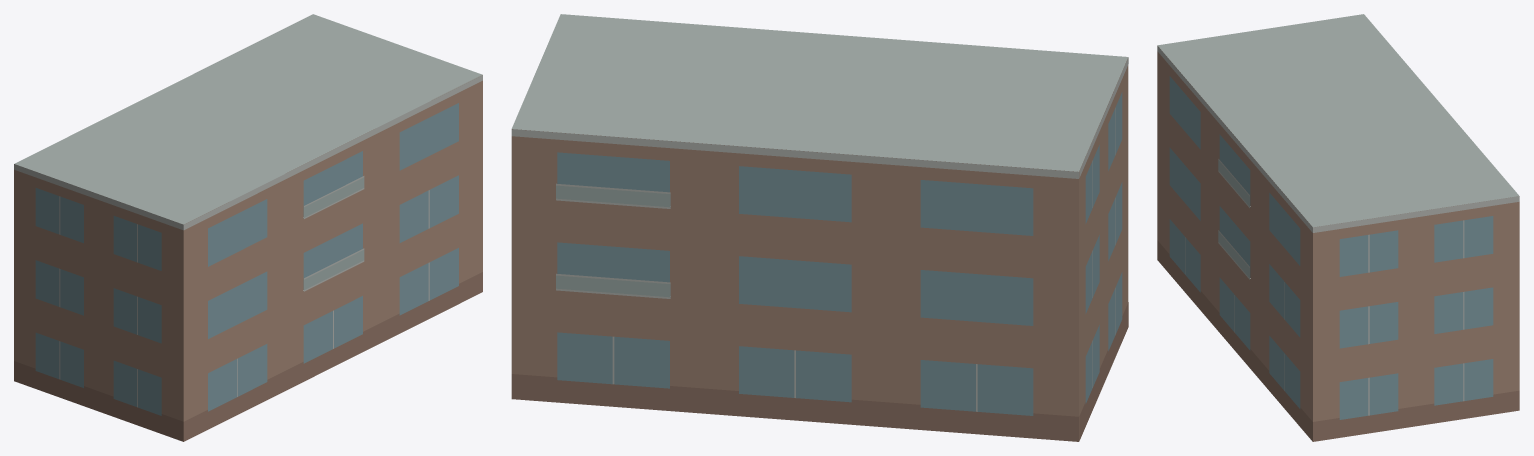
File: survey-upis-32721277.glb
3 renders of one model, left to right at view 1: azimuth 30°, elevation 25°; view 2: azimuth 150°, elevation 25°; view 3: azimuth 270°, elevation 25°, orthographic. The views are drawn at different scales.
Parts seen in each view (by area): view 1: survey-upis-32721277.tmp; view 2: survey-upis-32721277.tmp; view 3: survey-upis-32721277.tmp.
Part boxes in pixels (x1,y1,x2,y2): survey-upis-32721277.tmp: (14,14,482,441); survey-upis-32721277.tmp: (511,14,1128,441); survey-upis-32721277.tmp: (1157,14,1519,441).
Bounding box in the file's own units: 19.53 × 9.15 × 14.02.
